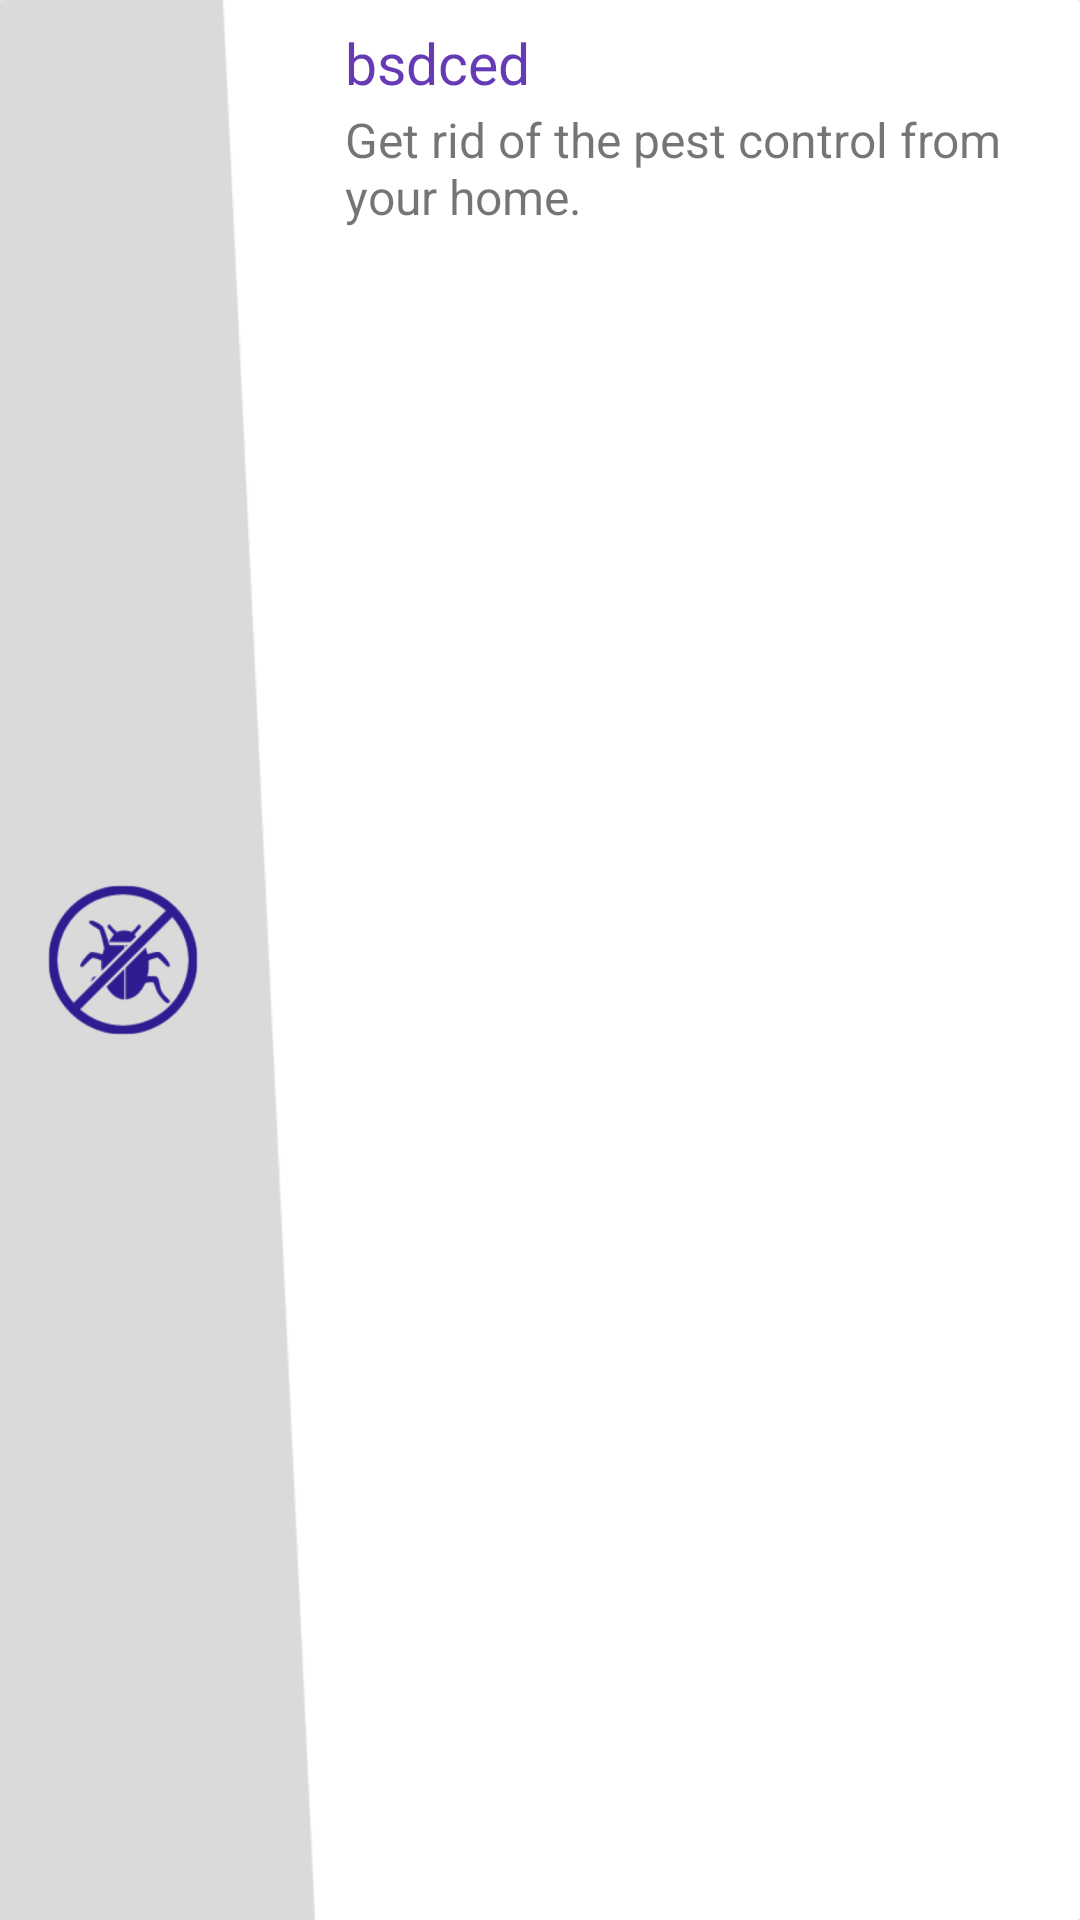

Icons on this 1080 x 1920 Android screen, each with its box as (x1, y1, x2, y2):
pest control: (48, 885, 198, 1035)
